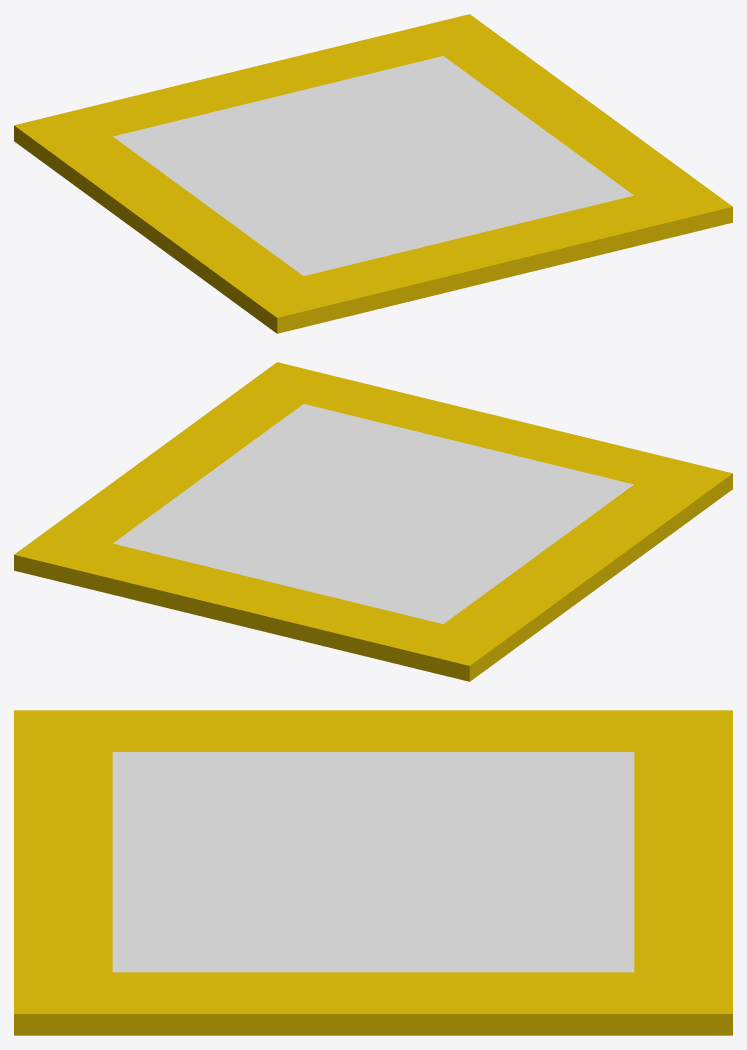
Rendered from SM_Ludo_Home.glb.
3 renders of one model, top to bottom at view 1: azimuth 30°, elevation 25°; view 2: azimuth 150°, elevation 25°; view 3: azimuth 270°, elevation 25°, orthographic. The views are drawn at different scales.
Visible parts, largest first — view 1: SM_Ludo_Home; view 2: SM_Ludo_Home; view 3: SM_Ludo_Home.
Boxes of the visible parts, x1=… form: SM_Ludo_Home: x1=14, y1=14, x2=732, y2=333; SM_Ludo_Home: x1=14, y1=362, x2=732, y2=681; SM_Ludo_Home: x1=14, y1=710, x2=732, y2=1035.
Size of the model in its own units: 1.2 by 0.04 by 1.2.
